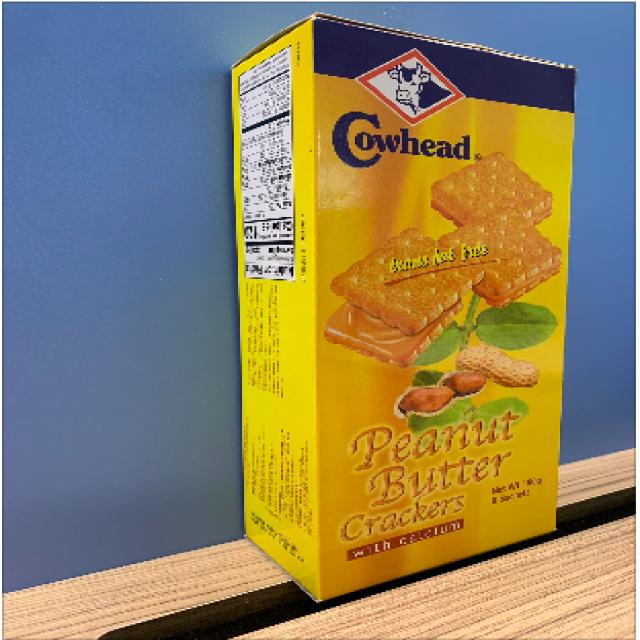object_name: (221, 37, 566, 542)
